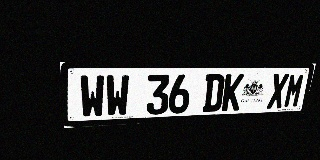3: (146, 74, 170, 115)
6: (168, 74, 191, 114)
D: (202, 74, 225, 112)
K: (221, 74, 244, 111)
M: (283, 73, 306, 108)
W: (79, 75, 105, 118), (105, 75, 129, 117)
X: (266, 74, 289, 109)
